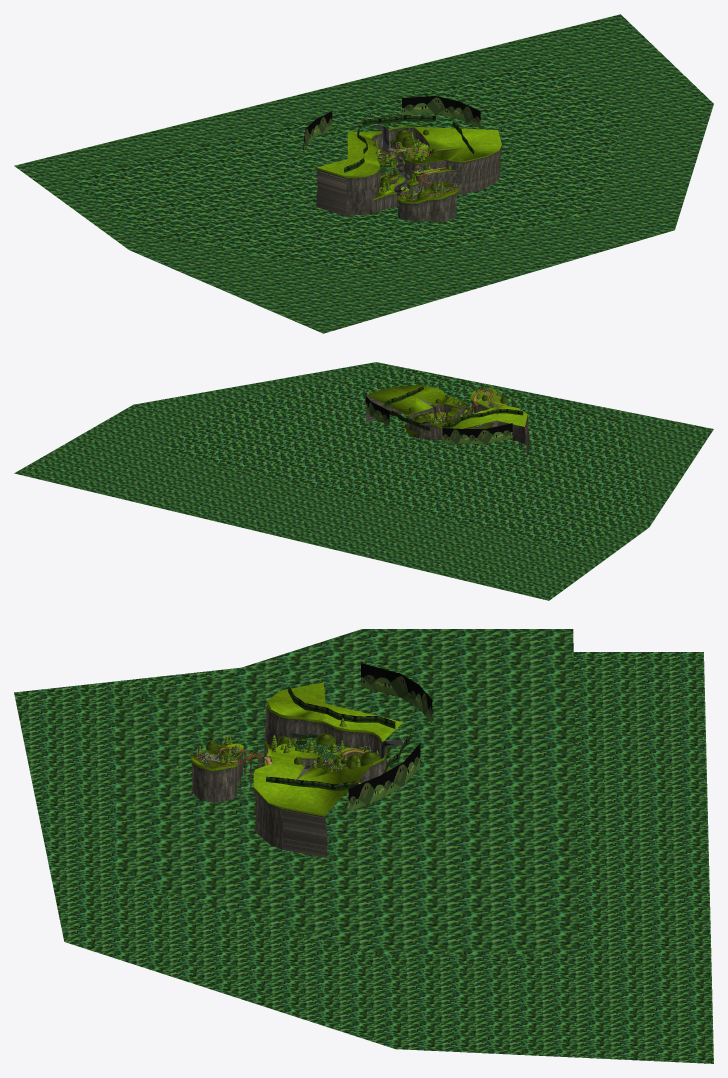
3 views of the same model, one above another, from view 1: azimuth 30°, elevation 25°; view 2: azimuth 150°, elevation 25°; view 3: azimuth 270°, elevation 25° (orthographic). The views are drawn at different scales.
Parts seen in each view (by area): view 1: foliage.027, foliage.037, foliage.043, foliage.044, foliage.029, foliage.028, foliage.005, foliage.004; view 2: foliage.027, foliage.037, foliage.029, foliage.044, foliage.043, foliage.028; view 3: foliage.027, foliage.037, foliage.043, foliage.044, foliage.029, foliage.028, foliage.005, foliage.004.
Boxes of the visible parts, left/top/right/bottom form: foliage.027: left=14, top=14, right=713, bottom=333; foliage.037: left=317, top=126, right=501, bottom=202; foliage.043: left=316, top=127, right=501, bottom=221; foliage.044: left=316, top=126, right=501, bottom=212; foliage.029: left=303, top=96, right=480, bottom=159; foliage.028: left=344, top=115, right=474, bottom=172; foliage.005: left=377, top=129, right=437, bottom=199; foliage.004: left=374, top=132, right=451, bottom=199; foliage.027: left=14, top=362, right=713, bottom=600; foliage.037: left=366, top=384, right=527, bottom=439; foliage.029: left=365, top=391, right=512, bottom=444; foliage.044: left=365, top=395, right=528, bottom=440; foliage.043: left=366, top=398, right=529, bottom=459; foliage.028: left=384, top=386, right=523, bottom=430; foliage.027: left=14, top=629, right=713, bottom=1063; foliage.037: left=191, top=682, right=402, bottom=814; foliage.043: left=192, top=723, right=402, bottom=857; foliage.044: left=191, top=701, right=386, bottom=822; foliage.029: left=348, top=663, right=432, bottom=811; foliage.028: left=266, top=685, right=411, bottom=790; foliage.005: left=205, top=733, right=380, bottom=769; foliage.004: left=197, top=717, right=378, bottom=771.
Size of the model in its own units: 461608 by 52951 by 331422.
Materials: 42 (42 with a texture image).
